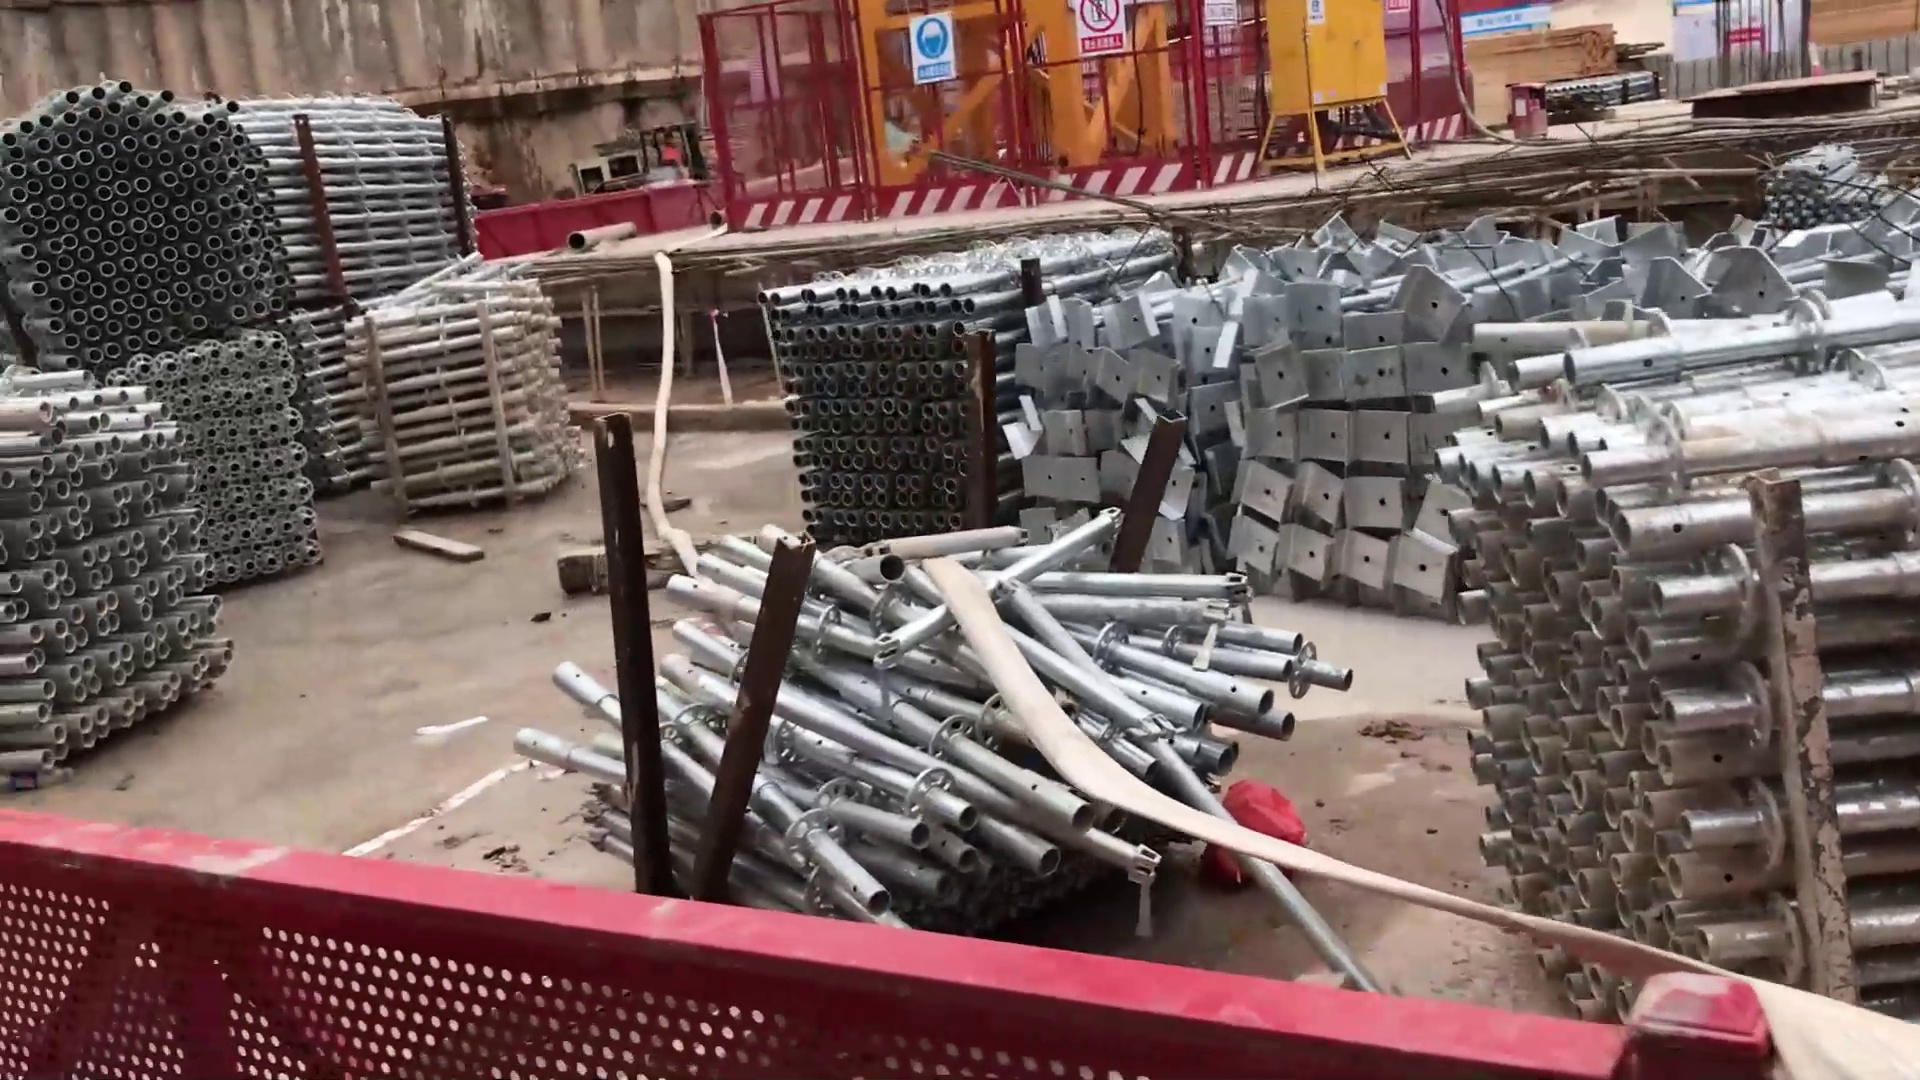ebox: (1261, 1, 1404, 185)
fence: (36, 816, 680, 1080), (719, 1, 870, 236)
scaffold: (1473, 285, 1920, 1038), (615, 516, 1335, 922), (781, 256, 1466, 615), (1, 339, 293, 781), (15, 84, 460, 328), (355, 278, 578, 524)
slogan: (895, 8, 971, 96), (1072, 1, 1133, 59), (1199, 1, 1247, 38)
wood: (1466, 20, 1623, 80)
